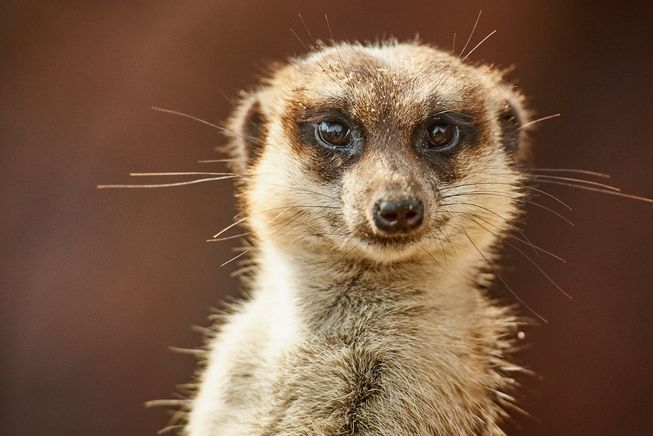meerkat: (195, 35, 528, 436)
